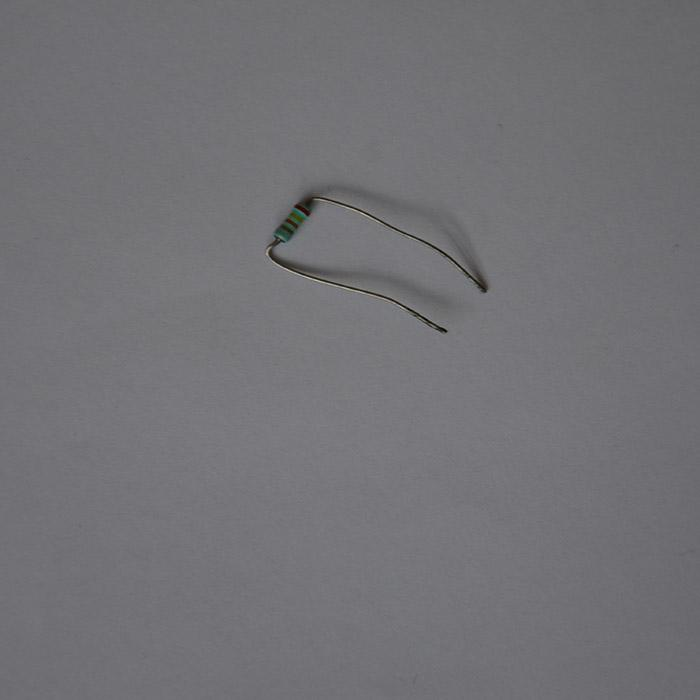resistor: (269, 201, 317, 246)
